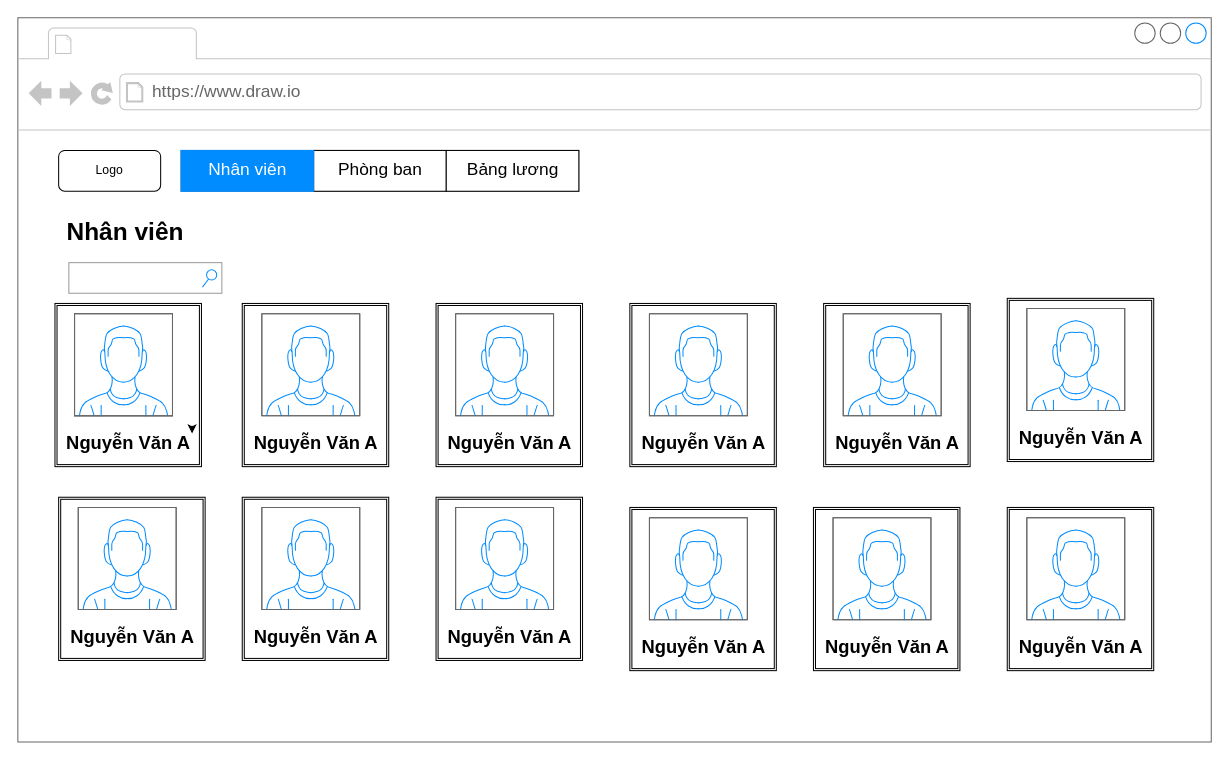
This 1229x760 diagram has some shape labels left out. The shapes that lost their labels are listed below. From the top down, each one's box as (x1, y1, x2, y2) in pixels, then its label:
(78, 29, 191, 57): Page 1
(68, 262, 222, 293): Search
